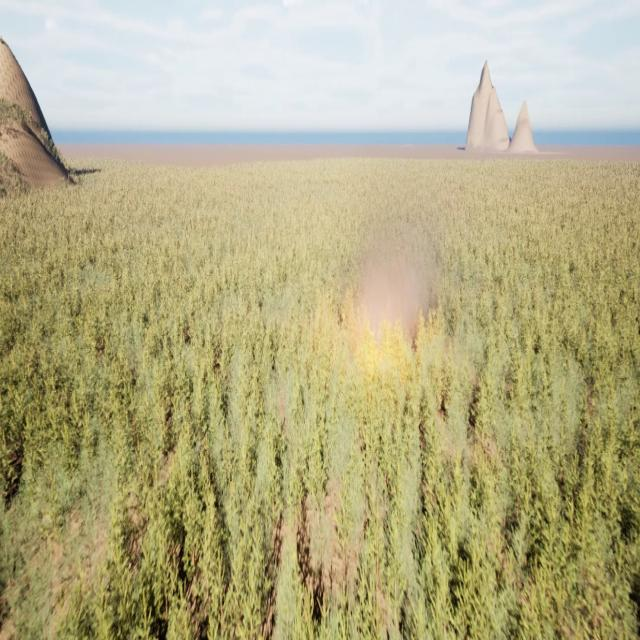smoke: (344, 232, 430, 353)
